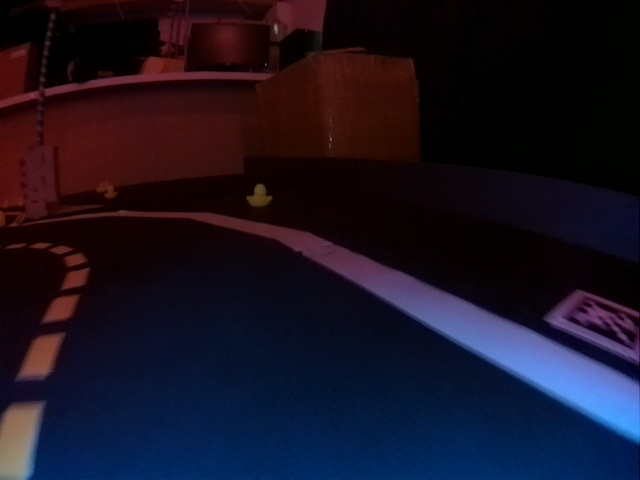Duckie: (247, 185, 271, 206), (105, 186, 117, 199)
QR code: (548, 290, 631, 361)
